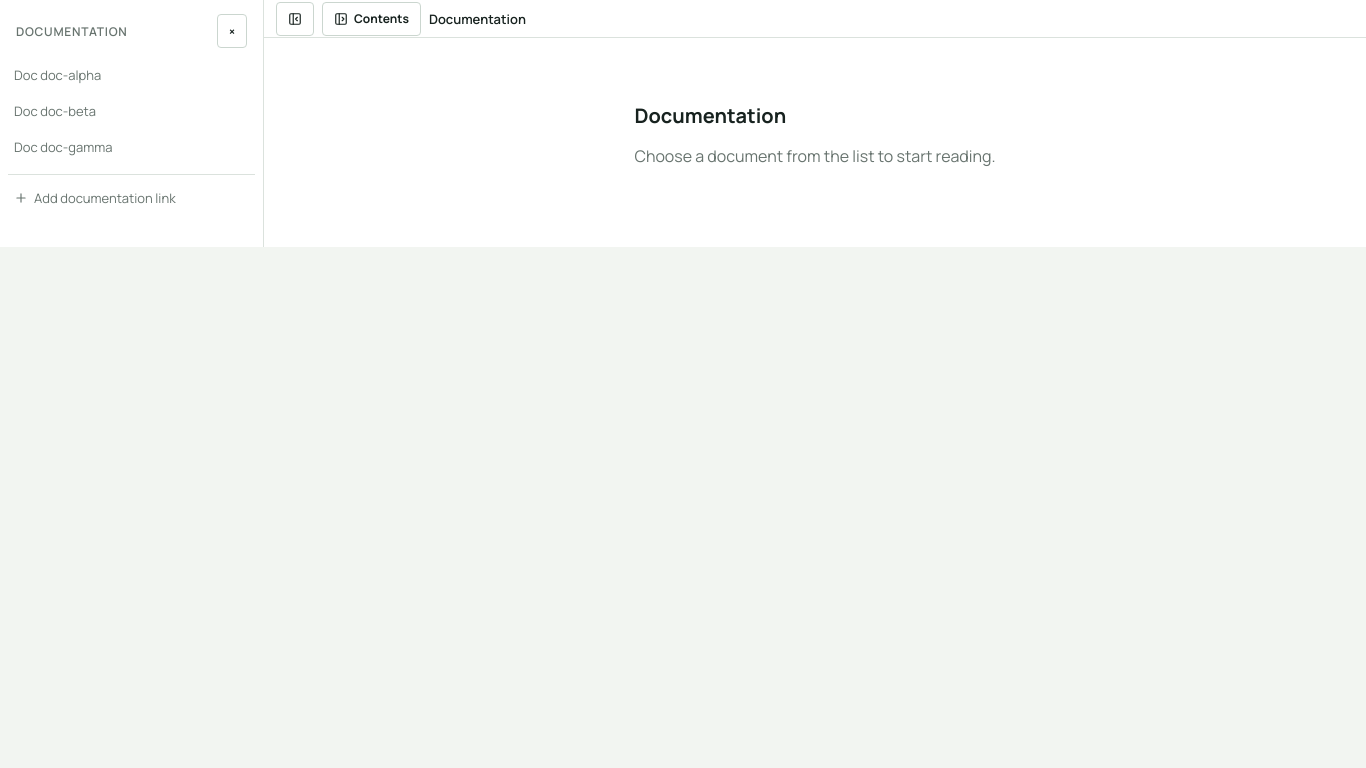
Test case: DocumentationPage admin surface › surfaces a failed save inside the dialog and keeps the values
Click the button with class "documentation-list-link" showing "Add documentation link" at (132, 198), box 8,183 -> 255,213
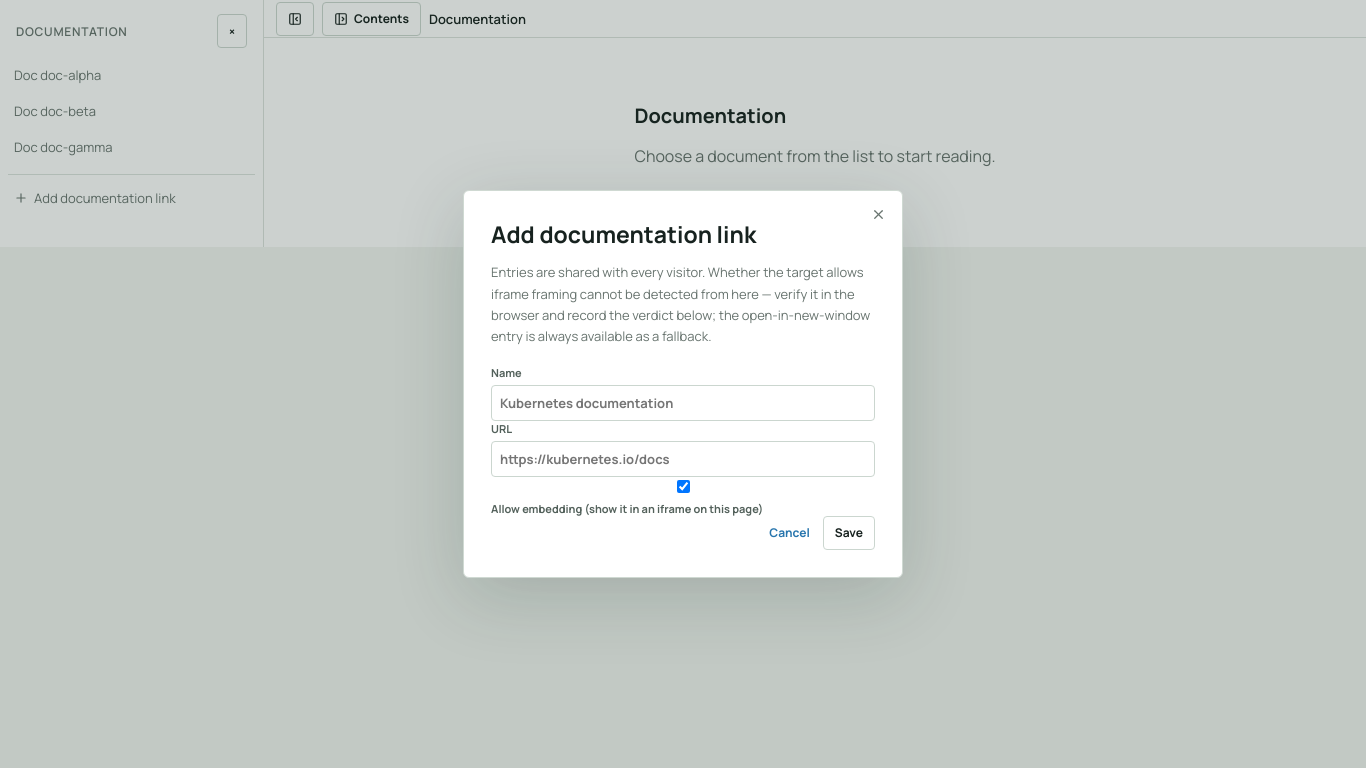
Type "Fresh docs" into the field named "title" at (683, 403), box 491,385 -> 875,421
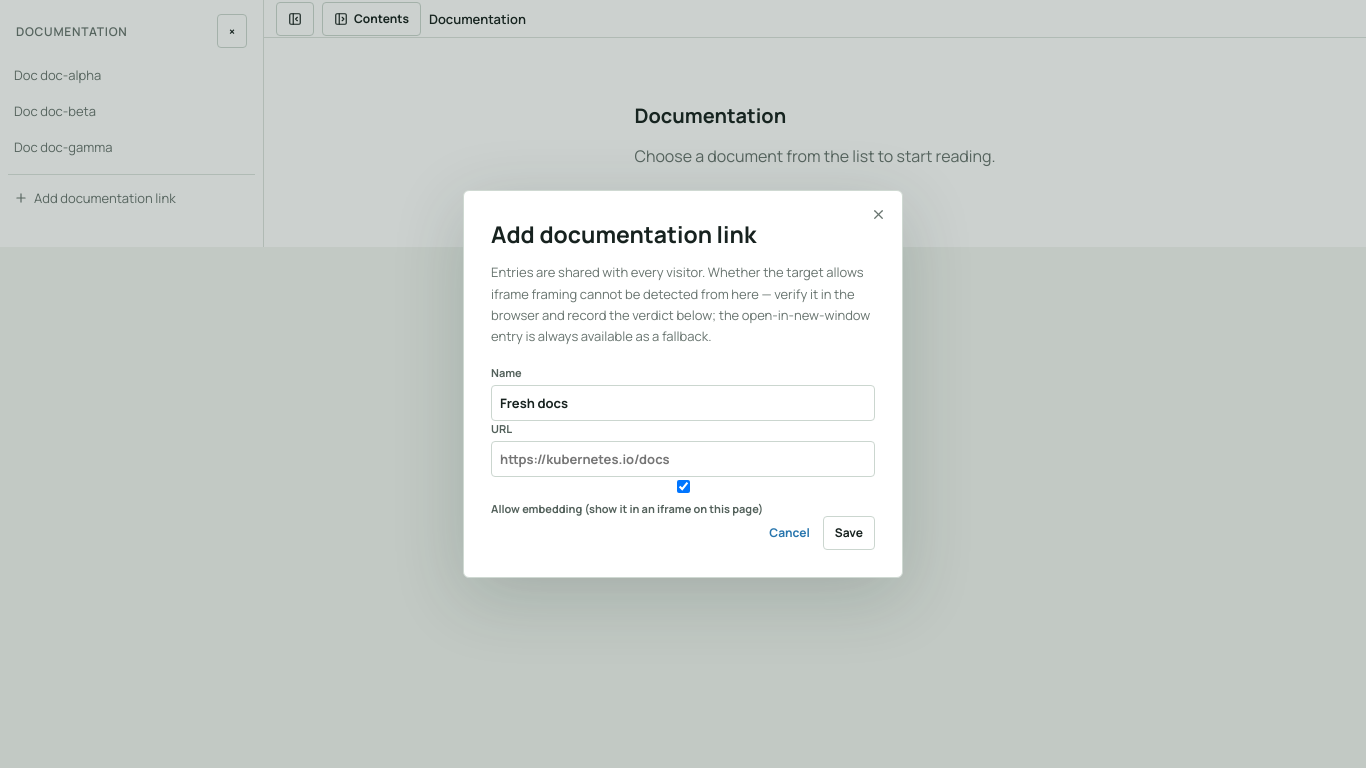
Type "https://fresh.example" into the field named "url" at (683, 459), box 491,441 -> 875,477
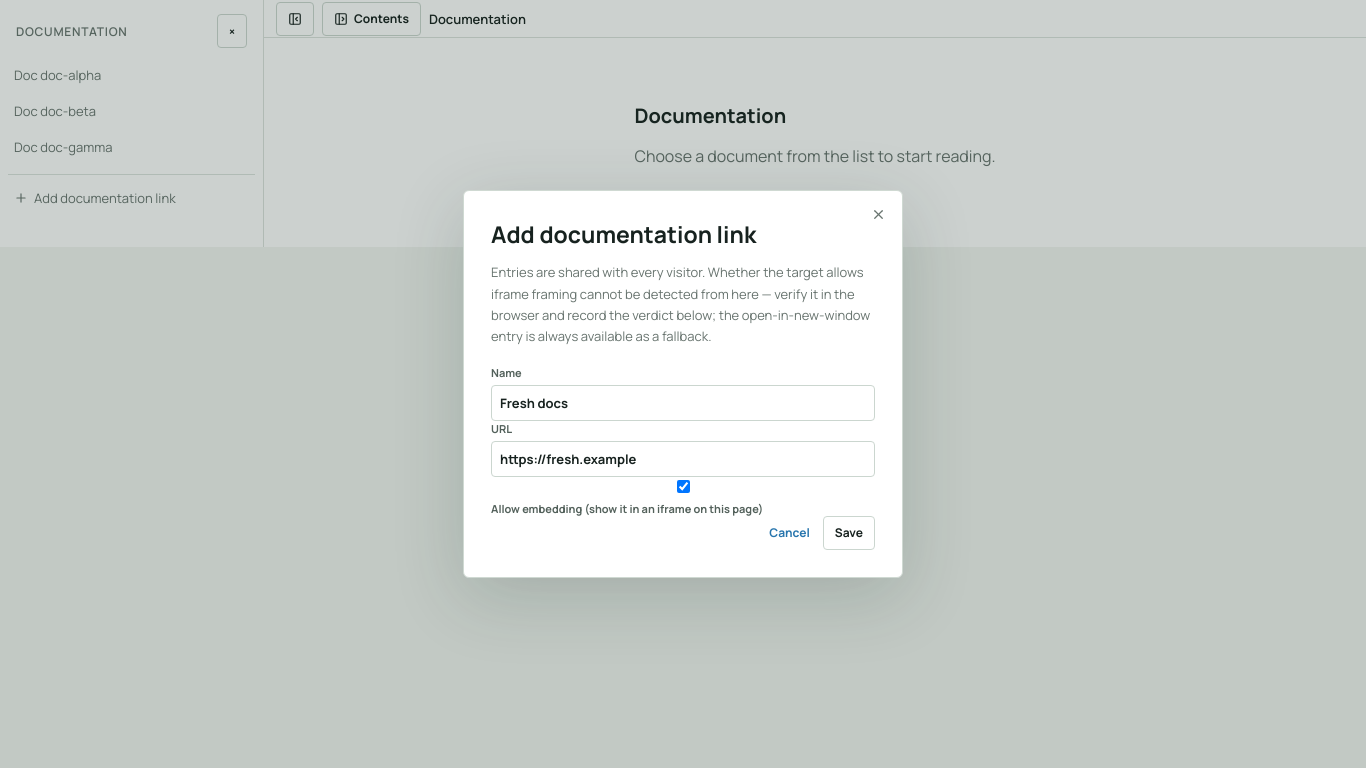
Submit the form, box 491,365 -> 875,550
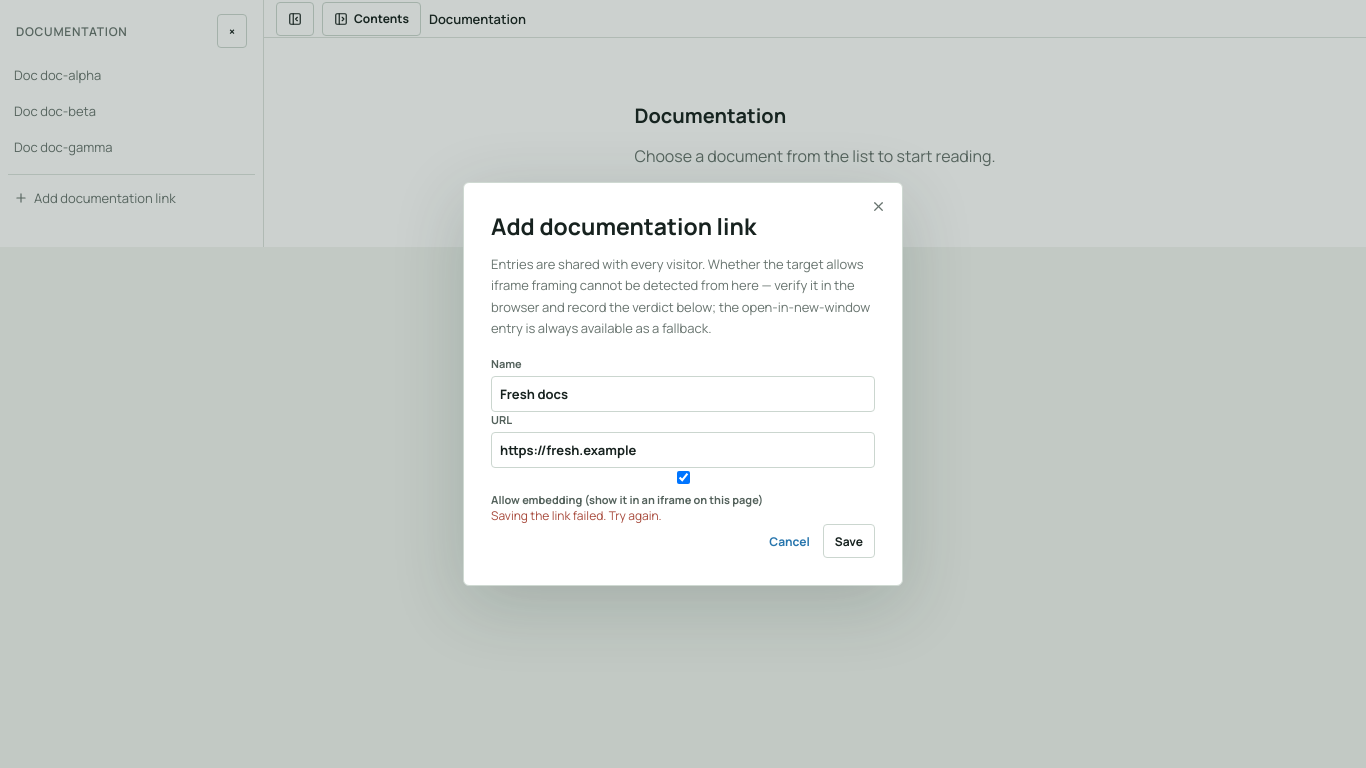
Expected: the dialog with class "dialog" is shown, 463,182 -> 903,586
Expected: the dialog with class "dialog" shows "Saving the link failed. Try again.", 491,507 -> 662,524
